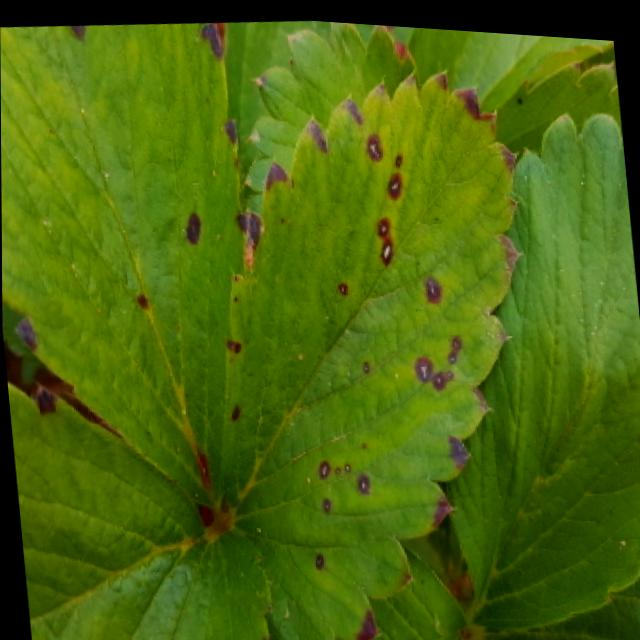Leaf Spot: (220, 63, 527, 640), (0, 19, 244, 510)
